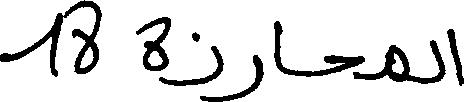X: (0, 8, 61, 81), (171, 27, 222, 101), (137, 12, 169, 89), (74, 0, 99, 78), (224, 50, 262, 101), (325, 50, 363, 83), (386, 40, 411, 86), (451, 24, 463, 90), (432, 35, 445, 87), (275, 16, 281, 76)
